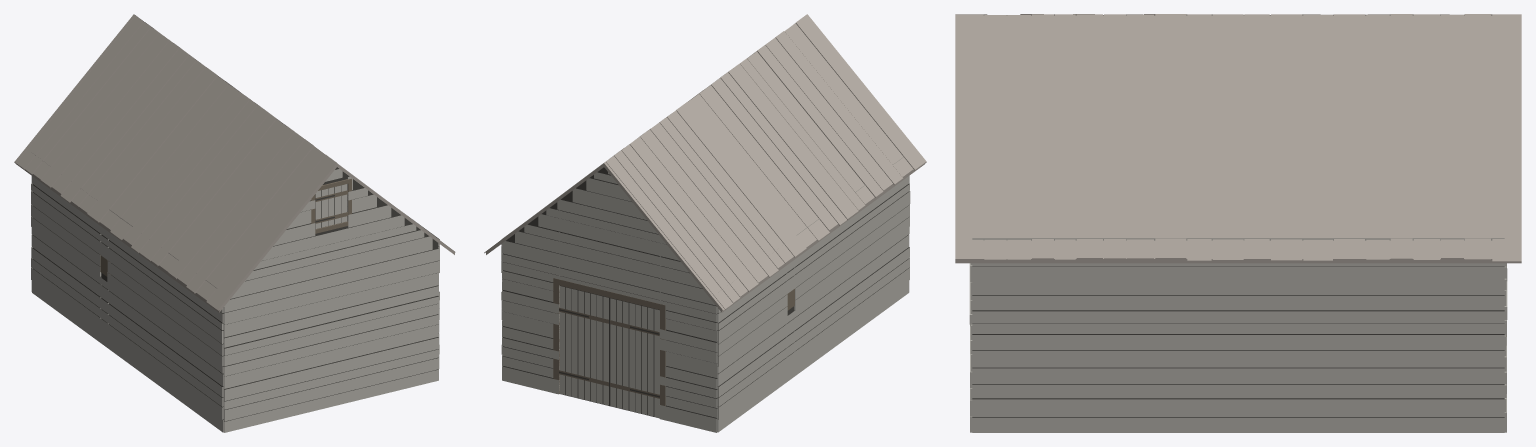
The model's file is recon_1835_blk_washington_franklin_a2_09__inferred_1835.glb.
The picture shows the model from 3 angles, left to right: view 1: azimuth 30°, elevation 25°; view 2: azimuth 150°, elevation 25°; view 3: azimuth 270°, elevation 25°; orthographic projection. The views are drawn at different scales.
Visible parts, largest first — view 1: recon_1835_blk_washington_franklin_a2_09__inferred_1835; view 2: recon_1835_blk_washington_franklin_a2_09__inferred_1835; view 3: recon_1835_blk_washington_franklin_a2_09__inferred_1835.
Boxes of the visible parts, bbox=[...] form: recon_1835_blk_washington_franklin_a2_09__inferred_1835: bbox=[14, 14, 455, 432]; recon_1835_blk_washington_franklin_a2_09__inferred_1835: bbox=[484, 14, 926, 432]; recon_1835_blk_washington_franklin_a2_09__inferred_1835: bbox=[955, 14, 1521, 432].
Bounding box in the file's own units: 6.88 × 6.82 × 10.13.
